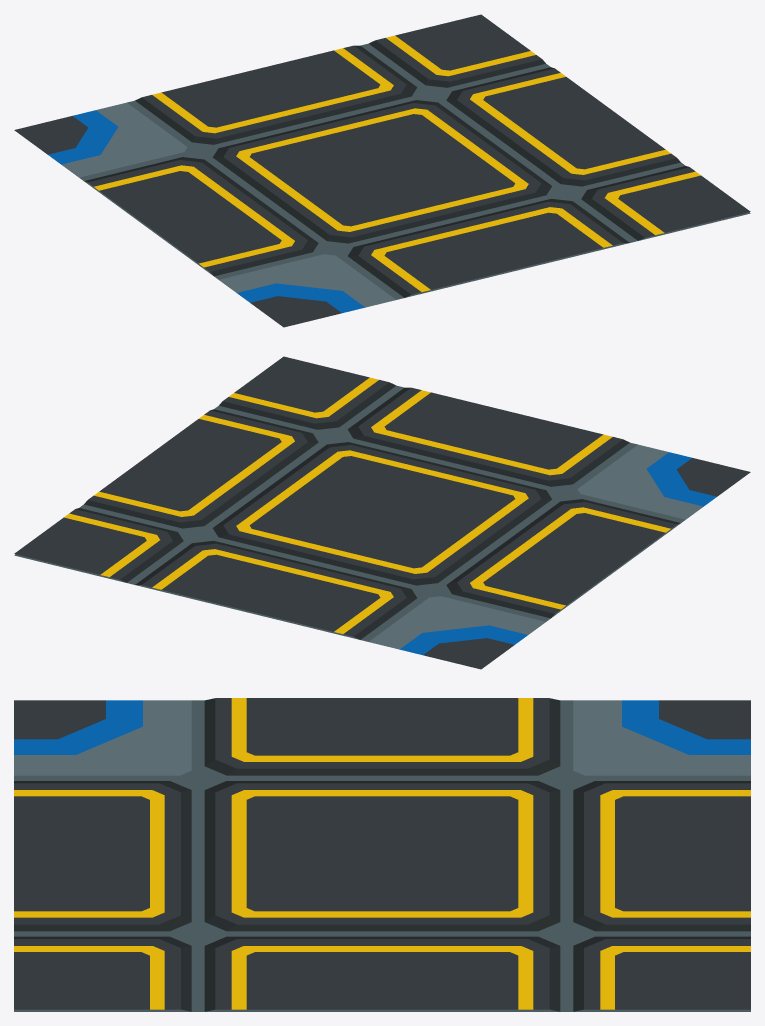
The model's file is Floor_type_C_033.fbx.
3 renders of one model, top to bottom at view 1: azimuth 30°, elevation 25°; view 2: azimuth 150°, elevation 25°; view 3: azimuth 270°, elevation 25°, orthographic. The views are drawn at different scales.
Parts seen in each view (by area): view 1: Floor_type_C_033; view 2: Floor_type_C_033; view 3: Floor_type_C_033.
Part boxes in pixels (x1=…): Floor_type_C_033: x1=14, y1=14, x2=750, y2=327; Floor_type_C_033: x1=14, y1=356, x2=750, y2=669; Floor_type_C_033: x1=14, y1=698, x2=750, y2=1011.
Bounding box in the file's own units: 400 × 400 × 1.34.
